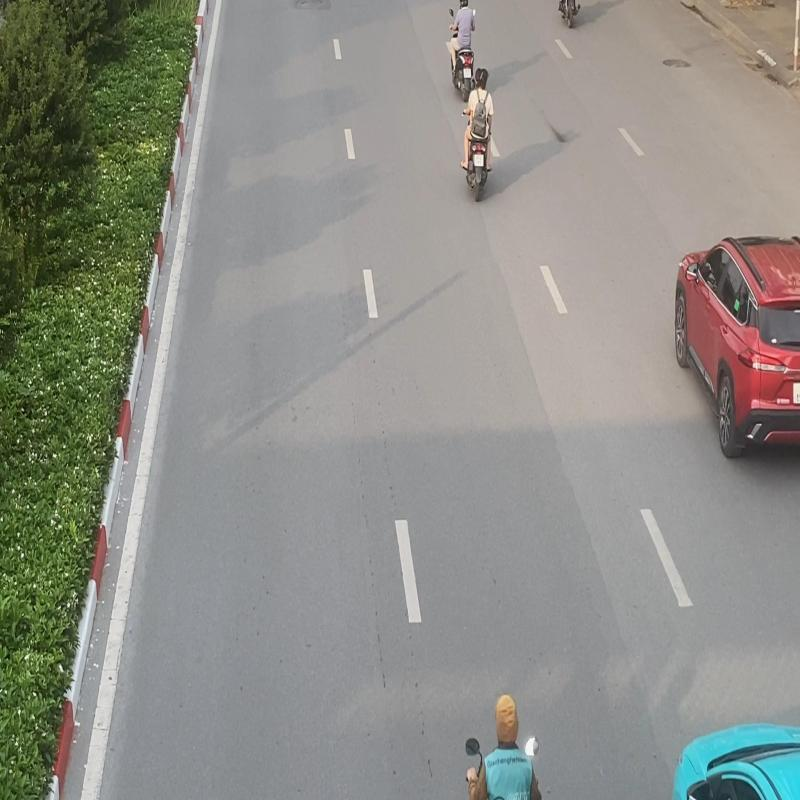licenseplate: (474, 154, 484, 167)
motorcyclist: (460, 68, 494, 203)
nohelmet: (474, 68, 488, 89)
